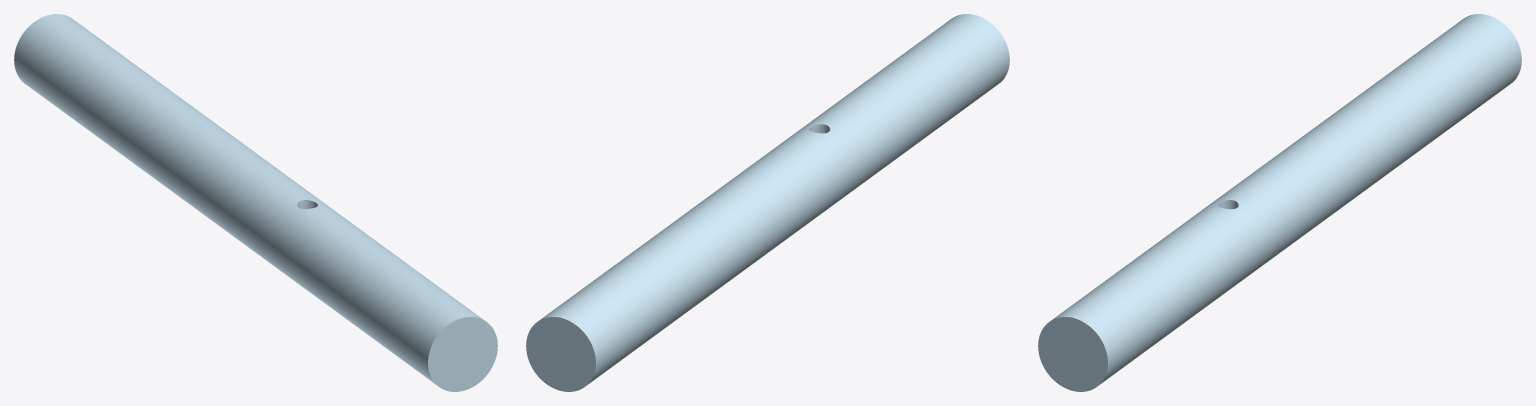
The model's file is GearRod4.gltf.
The picture shows the model from 3 angles, left to right: view 1: azimuth 30°, elevation 25°; view 2: azimuth 150°, elevation 25°; view 3: azimuth 330°, elevation 25°; orthographic projection.
Visible parts, largest first — view 1: Part 1; view 2: Part 1; view 3: Part 1.
Boxes of the visible parts, x1,y1,x2,y2 form: Part 1: (14, 14, 497, 391); Part 1: (526, 14, 1009, 391); Part 1: (1038, 14, 1521, 391).
Bounding box in the file's own units: 0.0195 × 0.0195 × 0.2.
